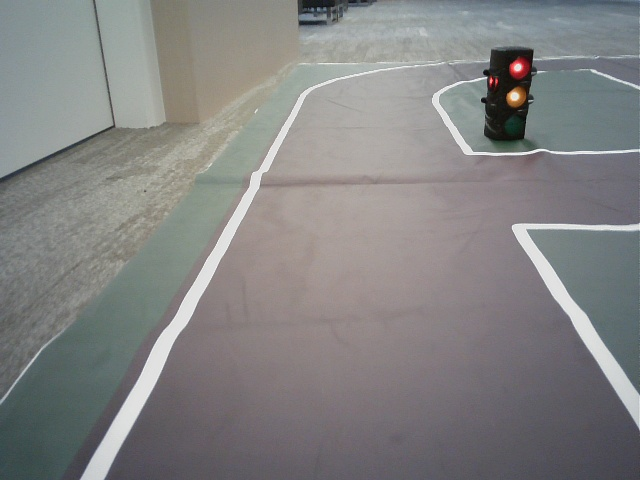red: (501, 52, 528, 133)
